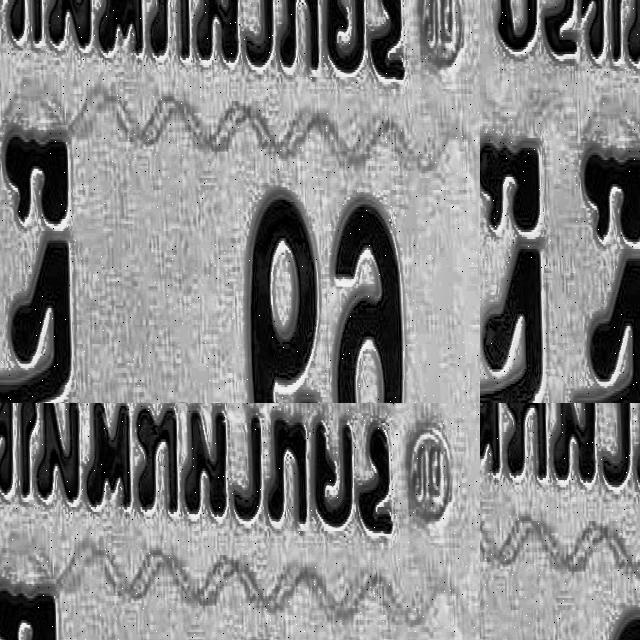license-plate: (480, 403, 640, 640), (480, 348, 627, 403)
